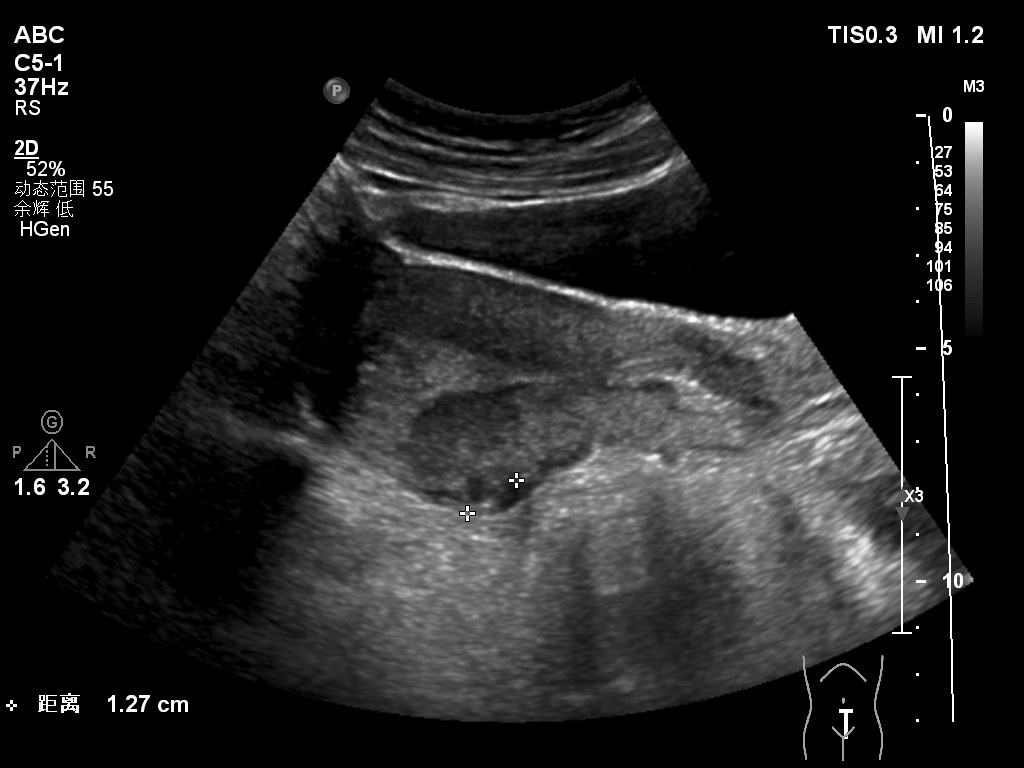肌瘤: (465, 470, 520, 516)
